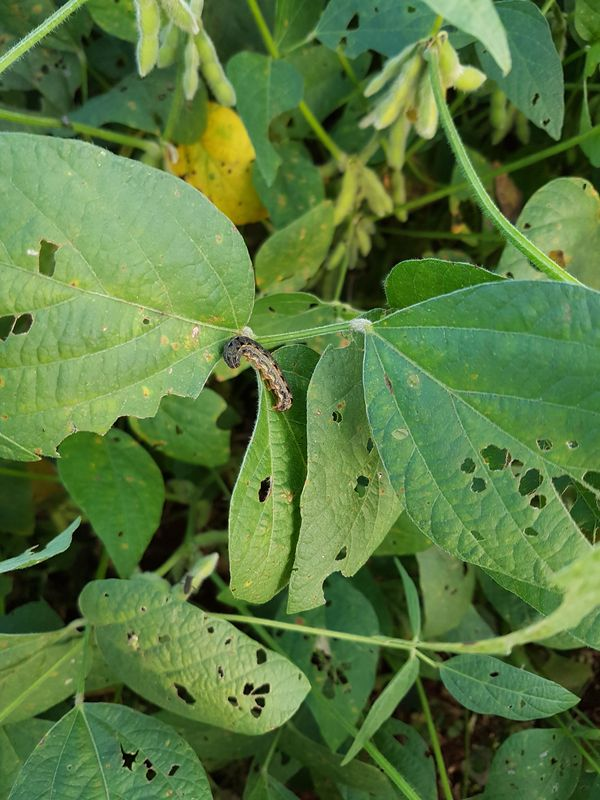Spodoptera_albula: (203, 325, 305, 423)
